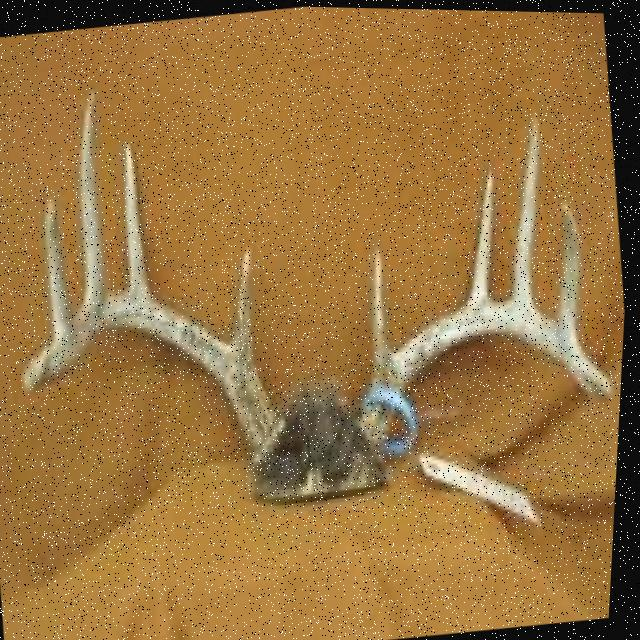L-F: (24, 294, 286, 459)
L-G1: (234, 243, 258, 362)
L-G2: (122, 139, 156, 298)
L-G3: (78, 89, 109, 307)
L-G4: (46, 195, 77, 339)
R-F: (363, 299, 617, 447)
R-G1: (373, 241, 396, 373)
R-G2: (469, 164, 496, 306)
R-G3: (516, 109, 543, 304)
R-G4: (562, 196, 584, 343)
